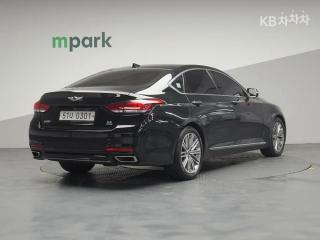0: (75, 111, 80, 120), (83, 112, 88, 120)
1: (88, 112, 92, 120), (66, 112, 70, 119)
3: (79, 111, 84, 120)
5: (62, 112, 66, 119)
나: (69, 112, 75, 119)
